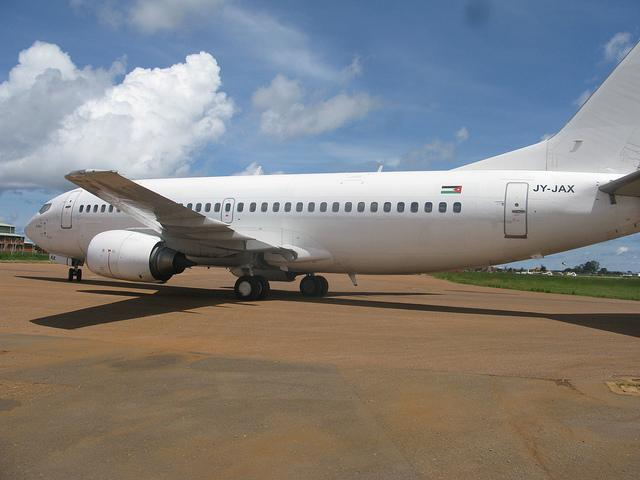airplane: (22, 38, 640, 303)
